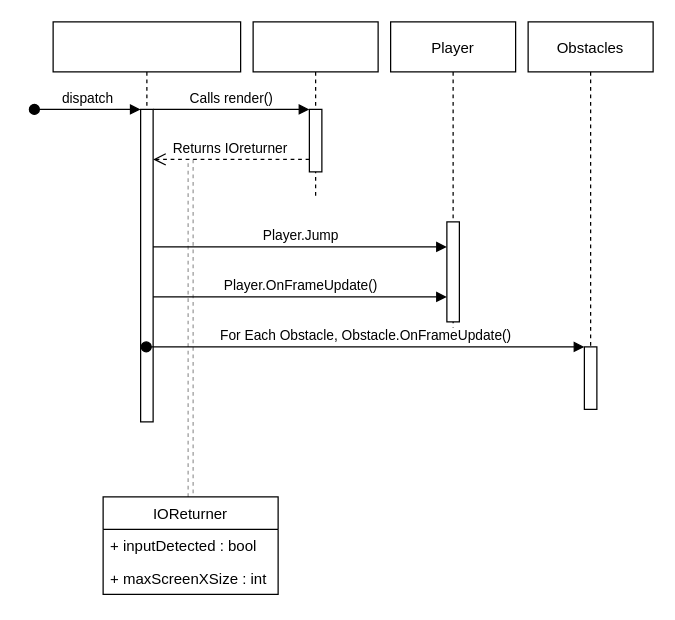
The diagram is 675 pixels wide and 620 high, and some of its shapes have lost their labels. The box of each missing label's shape, as (x1, y1, x2, y2) in pixels:
Controller.OnFrameUpdate: (52, 21, 241, 422)
IO: (252, 21, 378, 197)
